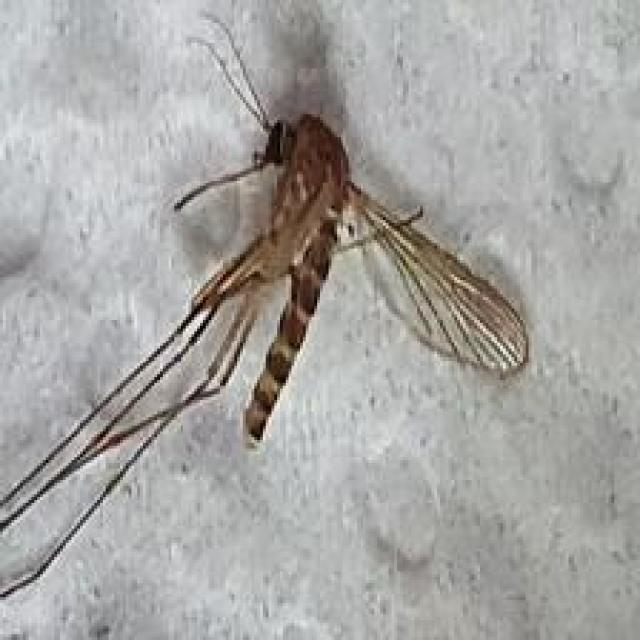Culex: (0, 5, 531, 605)
